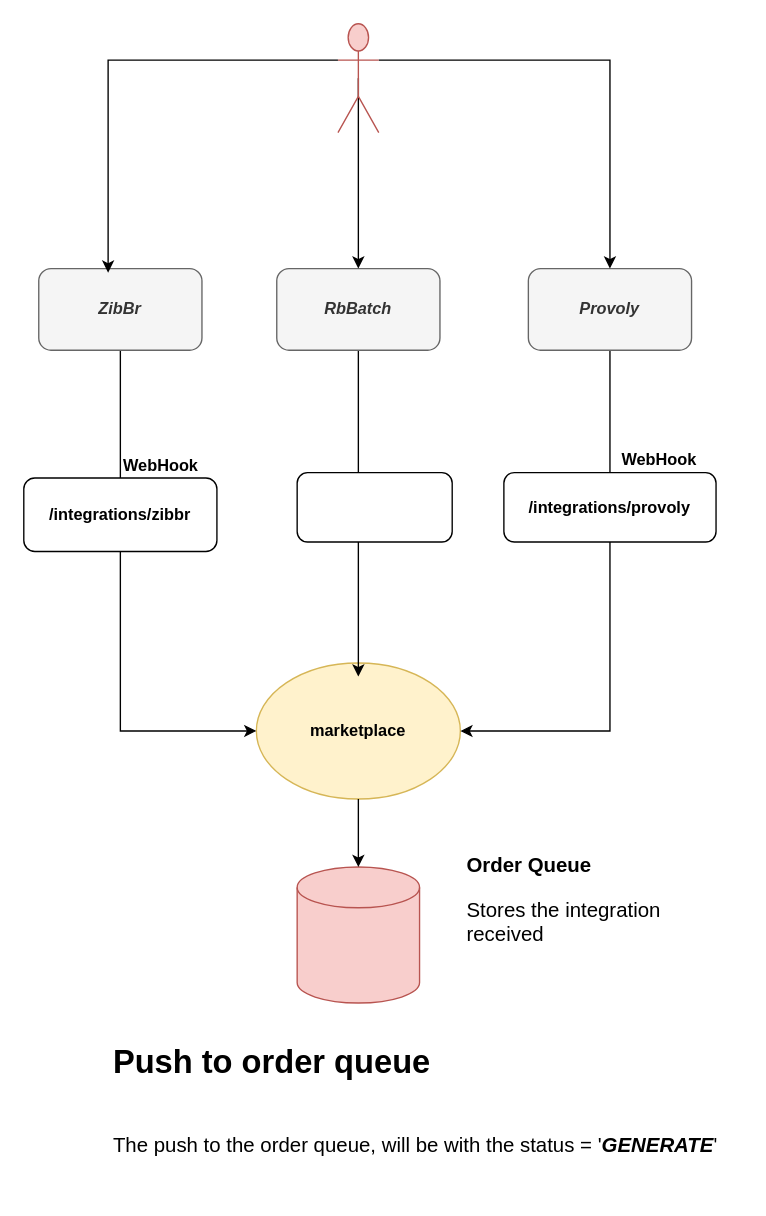
Image size: 766x1216. Some labels were removed from this diagram. The shapes that lost their labels are listed below. From the top down, each one's centre as x and y in pixels, then its label:
the point at 358,77: Actor
the point at 374,506: Polling
the point at 358,934: Order Queue
